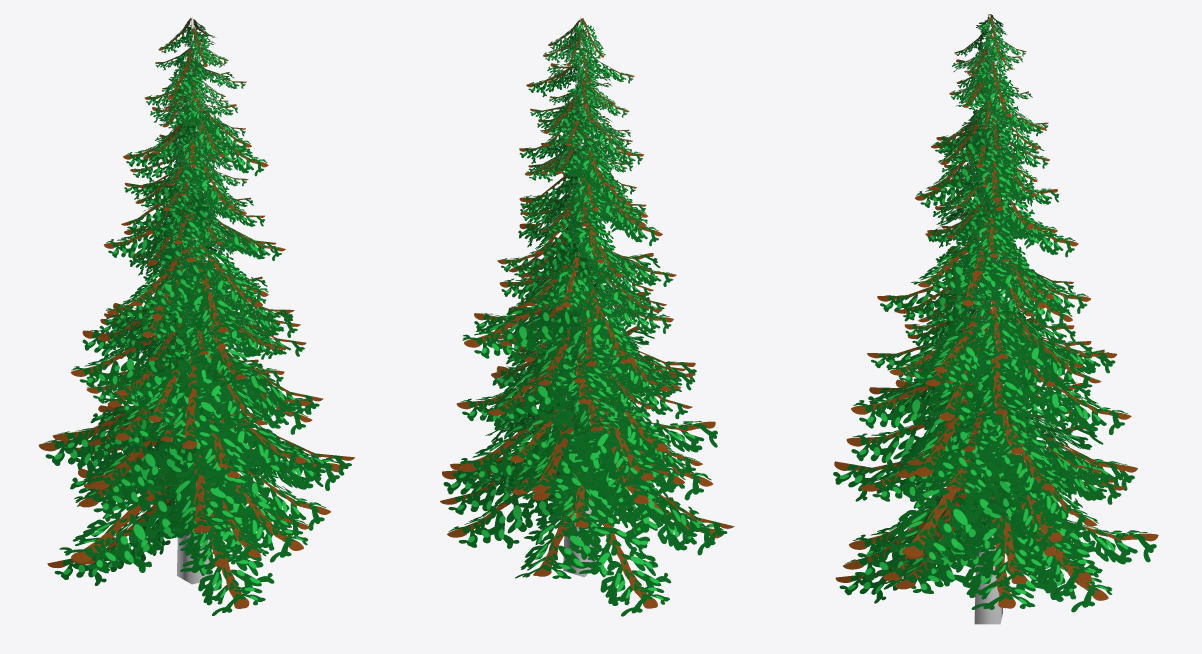
File: PineMobile.fbx
3 views of the same model, side by side, from view 1: azimuth 30°, elevation 25°; view 2: azimuth 150°, elevation 25°; view 3: azimuth 270°, elevation 25° (orthographic). The views are drawn at different scales.
Parts seen in each view (by area): view 1: PineTree1 Branch.008, PineTree1 Branch.087, PineTree1 Branch.005, PineTree1 Branch.096, PineTree1 Branch.084, PineTree1 Branch.017, PineTree1 Branch.020, PineTree1 Branch.100, PineTree1 Branch.082, PineTree1 Branch.111, PineTree1 Branch.109, PineTree1 Branch.093 (+52 smaller); view 2: PineTree1 Branch.003, PineTree1 Branch.006, PineTree1 Branch.094, PineTree1 Branch.101, PineTree1 Branch.085, PineTree1 Branch.001, PineTree1 Branch.088, PineTree1 Branch.092, PineTree1 Branch, PineTree1 Branch.012, PineTree1 Branch.083, PineTree1 Branch.008 (+51 smaller); view 3: PineTree1 Branch.089, PineTree1 Branch.098, PineTree1 Branch.013, PineTree1 Branch.019, PineTree1 Branch.004, PineTree1 Branch.101, PineTree1 Branch.092, PineTree1 Branch.086, PineTree1 Branch.020, PineTree1 Branch.081, PineTree1 Branch.104, PineTree1 Branch.116 (+58 smaller).
Boxes of the visible parts, <box> form: PineTree1 Branch.008: <box>59,447,205,573</box>; PineTree1 Branch.087: <box>154,435,254,538</box>; PineTree1 Branch.005: <box>157,504,274,615</box>; PineTree1 Branch.096: <box>154,338,239,449</box>; PineTree1 Branch.084: <box>175,451,308,562</box>; PineTree1 Branch.017: <box>84,409,208,496</box>; PineTree1 Branch.020: <box>171,338,272,430</box>; PineTree1 Branch.100: <box>70,324,184,390</box>; PineTree1 Branch.082: <box>74,418,207,514</box>; PineTree1 Branch.111: <box>170,247,245,336</box>; PineTree1 Branch.109: <box>123,244,207,310</box>; PineTree1 Branch.093: <box>176,401,256,481</box>; PineTree1 Branch.003: <box>548,479,671,616</box>; PineTree1 Branch.006: <box>515,471,627,578</box>; PineTree1 Branch.094: <box>559,393,664,488</box>; PineTree1 Branch.101: <box>462,269,579,363</box>; PineTree1 Branch.085: <box>543,397,664,509</box>; PineTree1 Branch.001: <box>447,490,576,548</box>; PineTree1 Branch.088: <box>516,404,622,501</box>; PineTree1 Branch.092: <box>480,343,594,422</box>; PineTree1 Branch: <box>583,468,723,555</box>; PineTree1 Branch.012: <box>550,431,621,529</box>; PineTree1 Branch.083: <box>458,404,575,484</box>; PineTree1 Branch.008: <box>586,456,734,541</box>; PineTree1 Branch.089: <box>881,457,1021,564</box>; PineTree1 Branch.098: <box>899,359,1021,481</box>; PineTree1 Branch.013: <box>960,481,1054,588</box>; PineTree1 Branch.019: <box>985,410,1065,496</box>; PineTree1 Branch.004: <box>940,487,1050,609</box>; PineTree1 Branch.101: <box>977,300,1101,392</box>; PineTree1 Branch.092: <box>993,360,1131,434</box>; PineTree1 Branch.086: <box>963,471,1102,594</box>; PineTree1 Branch.020: <box>851,358,966,437</box>; PineTree1 Branch.081: <box>892,455,1023,562</box>; PineTree1 Branch.104: <box>965,344,1035,417</box>; PineTree1 Branch.116: <box>922,303,1006,378</box>.
Bounding box in the file's own units: 1124 × 1902 × 1128.
